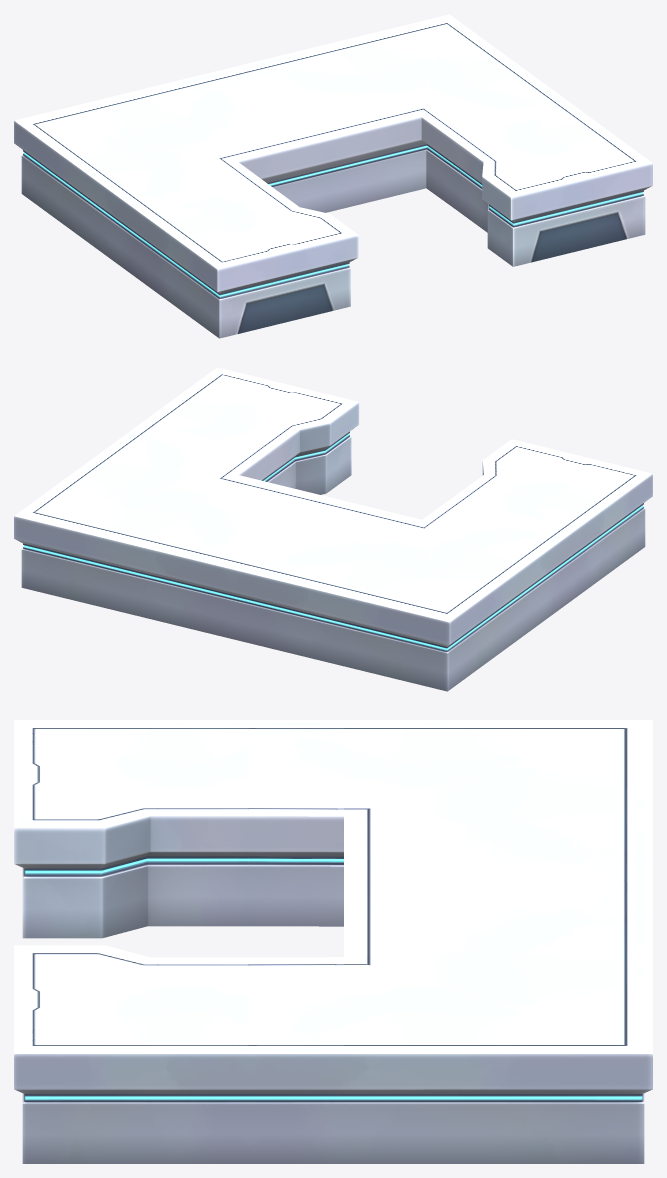
File: obj_btable.gltf
3 views of the same model, one above another, from view 1: azimuth 30°, elevation 25°; view 2: azimuth 150°, elevation 25°; view 3: azimuth 270°, elevation 25° (orthographic). The views are drawn at different scales.
Parts seen in each view (by area): view 1: obj_btable; view 2: obj_btable; view 3: obj_btable.
Part boxes in pixels (bbox=[...]): obj_btable: bbox=[14, 14, 652, 338]; obj_btable: bbox=[14, 367, 652, 691]; obj_btable: bbox=[14, 720, 652, 1163].
Size of what is drawn, in the model's own units: 4.52 by 0.717 by 3.65.
Materials: 1 (1 with a texture image).
